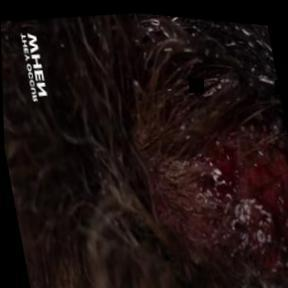skin_lesions: (148, 111, 288, 285)
